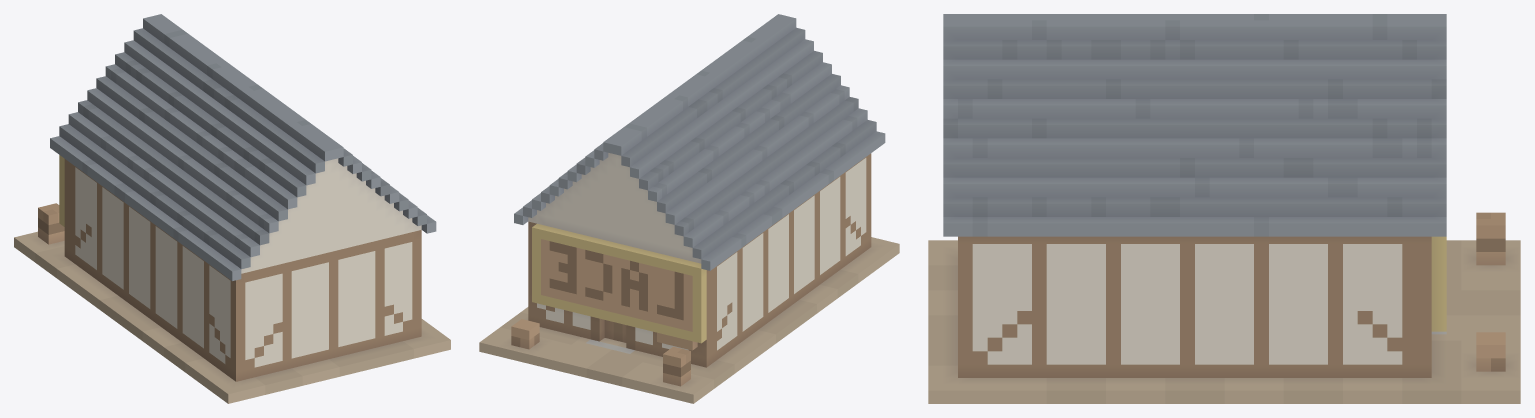
Rendered from lace_maker.glb.
3 renders of one model, left to right at view 1: azimuth 30°, elevation 25°; view 2: azimuth 150°, elevation 25°; view 3: azimuth 270°, elevation 25°, orthographic. The views are drawn at different scales.
Parts seen in each view (by area): view 1: lace_maker; view 2: lace_maker; view 3: lace_maker.
Part boxes in pixels (box(x1,y1,x2,y2)): lace_maker: box(14, 14, 450, 403); lace_maker: box(479, 14, 899, 403); lace_maker: box(928, 14, 1520, 403).
Size of the model in its own units: 3 by 2.88 by 5.
